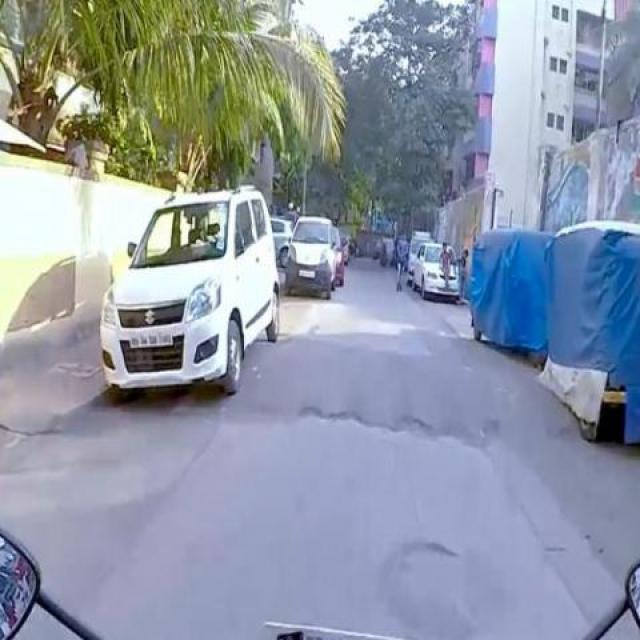Manhole: (380, 530, 512, 640)
Unmarked Bump: (238, 331, 580, 442)
